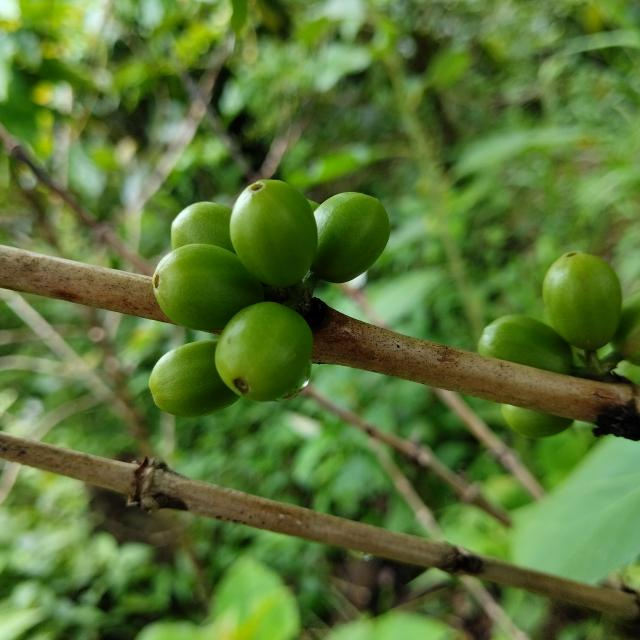green: (152, 244, 264, 332), (215, 302, 313, 402), (229, 179, 318, 288), (544, 252, 623, 351), (311, 192, 390, 283), (148, 340, 240, 418), (479, 315, 574, 375), (171, 201, 235, 252), (502, 404, 575, 439), (614, 290, 640, 366)
